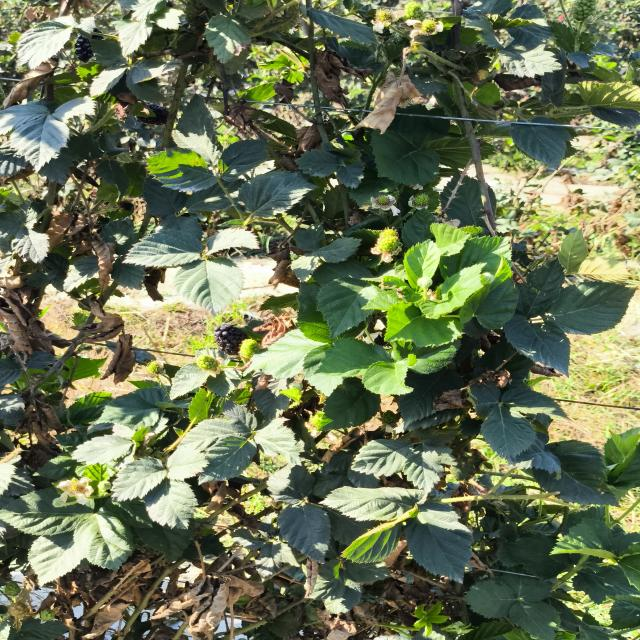maduro: (214, 324, 246, 355)
verde: (371, 228, 401, 263), (195, 354, 223, 375), (239, 338, 260, 360)
